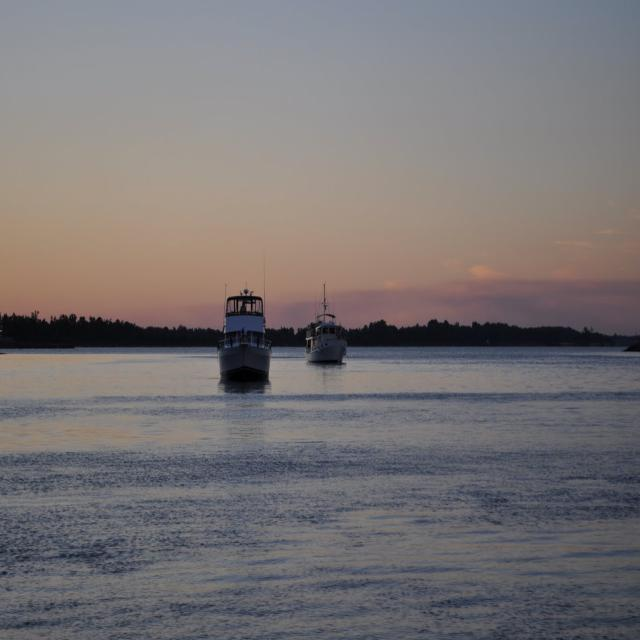houseboat: (214, 288, 272, 383), (300, 287, 350, 366)
